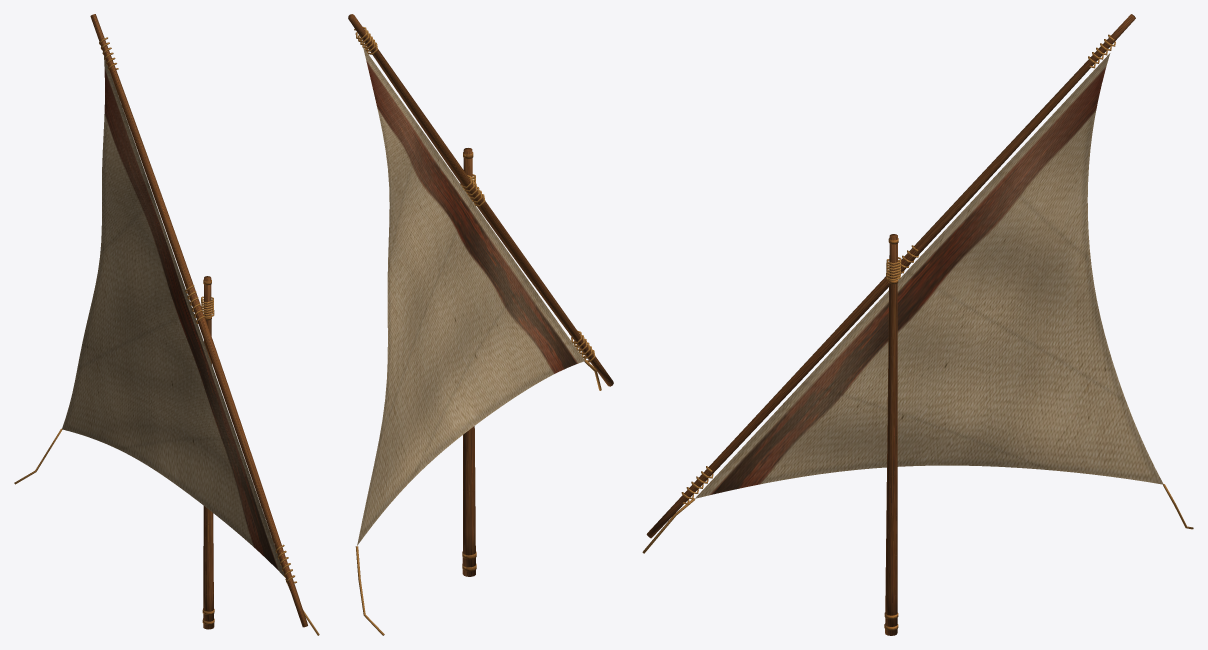
File: boat-sail-rig.glb
3 renders of one model, left to right at view 1: azimuth 30°, elevation 25°; view 2: azimuth 150°, elevation 25°; view 3: azimuth 270°, elevation 25°, orthographic. The views are drawn at different scales.
Visible parts, largest first — view 1: sail_cloth, SM_Lateen_Mast_and_Yard; view 2: sail_cloth, SM_Lateen_Mast_and_Yard; view 3: sail_cloth, SM_Lateen_Mast_and_Yard.
Boxes of the visible parts, box(x1,y1,x2,y2) form: sail_cloth: box(62, 55, 284, 576); SM_Lateen_Mast_and_Yard: box(14, 14, 319, 635); sail_cloth: box(357, 47, 584, 545); SM_Lateen_Mast_and_Yard: box(348, 14, 613, 635); sail_cloth: box(695, 53, 1163, 498); SM_Lateen_Mast_and_Yard: box(642, 14, 1193, 635).
Size of the model in its own units: 0.6168 by 4.61 by 3.76.
2 materials, 2 textured.
